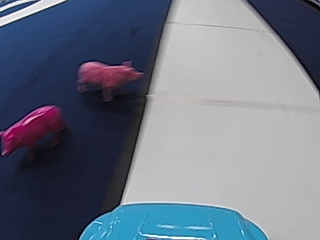pig: (0, 101, 67, 156), (77, 56, 143, 99)
